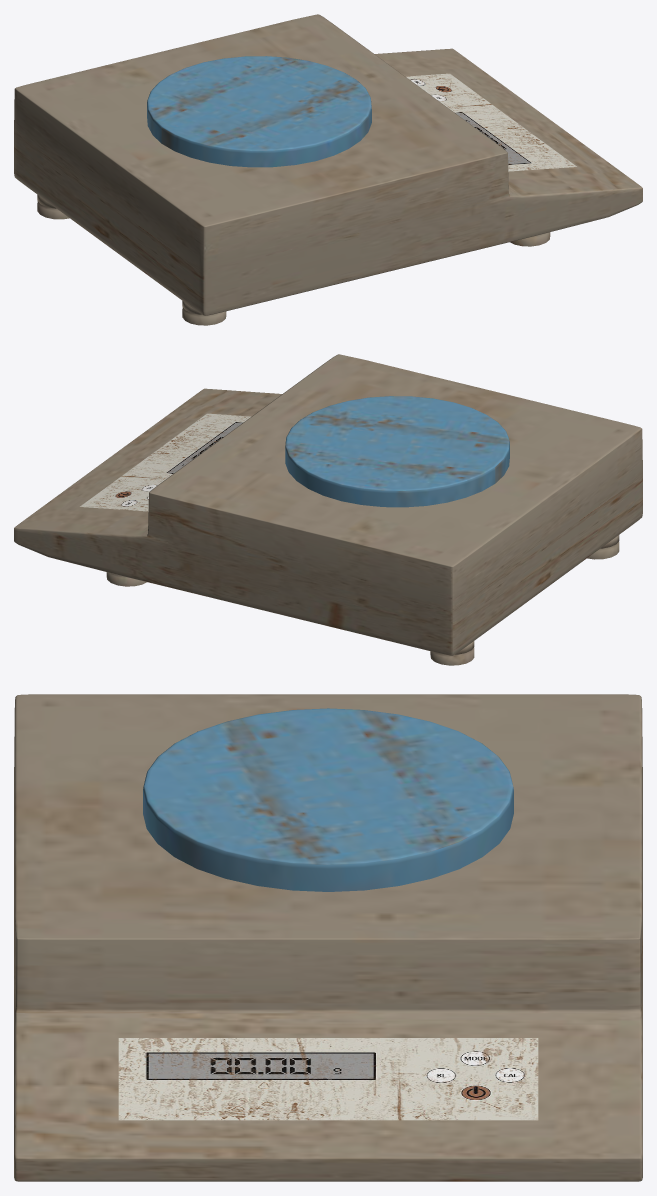
File: measuringscale.fbx
3 views of the same model, one above another, from view 1: azimuth 30°, elevation 25°; view 2: azimuth 150°, elevation 25°; view 3: azimuth 270°, elevation 25° (orthographic). The views are drawn at different scales.
Parts seen in each view (by area): view 1: Lab_Scales.Shape; view 2: Lab_Scales.Shape; view 3: Lab_Scales.Shape.
Part boxes in pixels (x1,y1,x2,y2): Lab_Scales.Shape: [14, 14, 642, 325]; Lab_Scales.Shape: [14, 354, 642, 665]; Lab_Scales.Shape: [14, 694, 642, 1181].
Bounding box in the file's own units: 32.09 × 8.99 × 24.11.
Materials: 1 (1 with a texture image).
